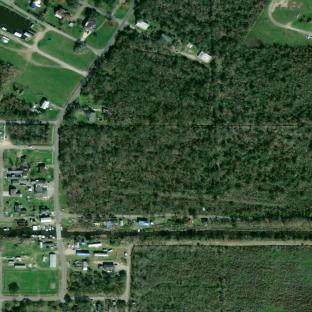Floresta: (59, 0, 312, 217), (132, 246, 312, 312), (106, 229, 312, 241), (69, 270, 126, 296), (0, 93, 33, 120), (6, 124, 50, 144), (0, 58, 16, 83), (75, 296, 93, 312), (63, 231, 104, 238), (0, 0, 0, 0)
